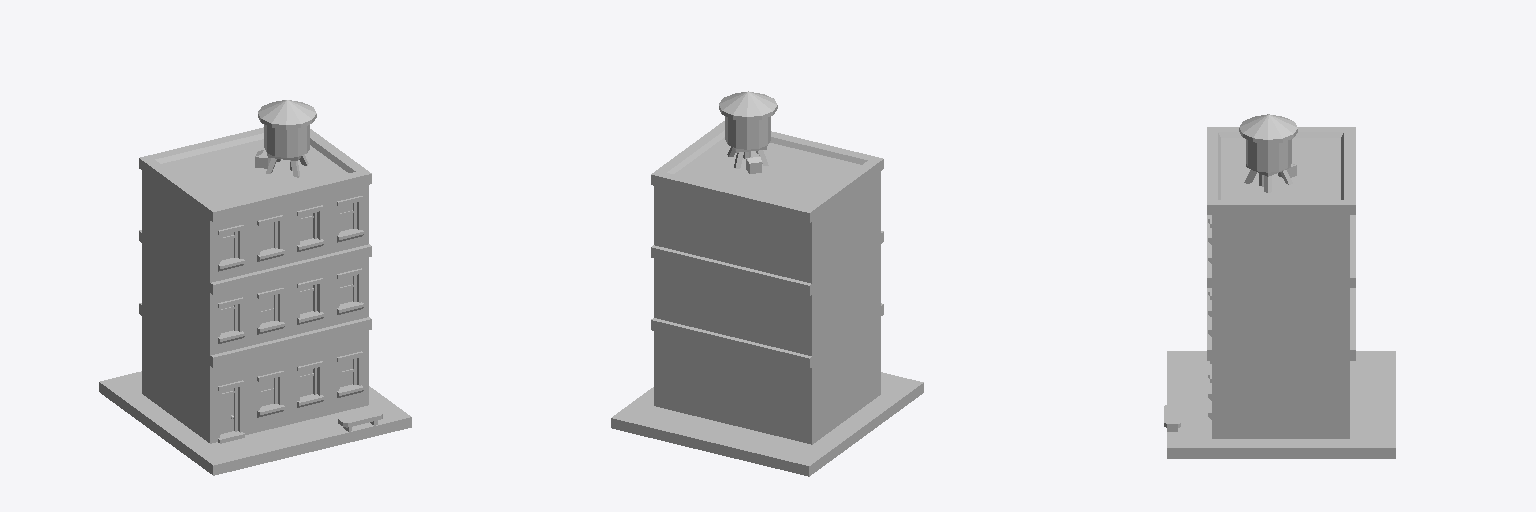
File: building_D.obj
3 views of the same model, side by side, from view 1: azimuth 30°, elevation 25°; view 2: azimuth 150°, elevation 25°; view 3: azimuth 270°, elevation 25° (orthographic).
Visible parts, largest first — view 1: building_D_Cube.935; view 2: building_D_Cube.935; view 3: building_D_Cube.935.
Boxes of the visible parts, box(x1,y1,x2,y2) form: building_D_Cube.935: box(99, 100, 411, 475); building_D_Cube.935: box(611, 91, 923, 476); building_D_Cube.935: box(1164, 114, 1395, 458).
Size of the model in its own units: 2 by 2.97 by 2.02.